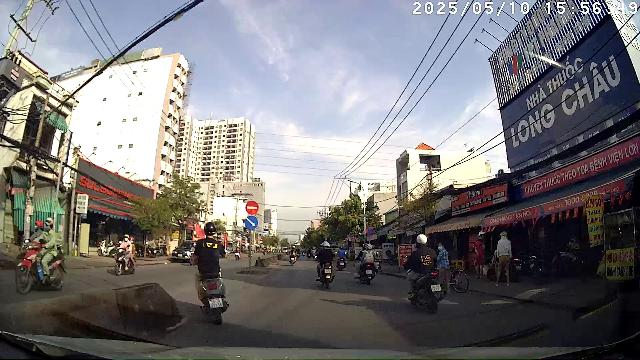102-cam-di-nguoc-chieu: (246, 200, 258, 214)
302a-huong-phai-di-vong-chuong-ngai-vat-1: (245, 216, 258, 230)
